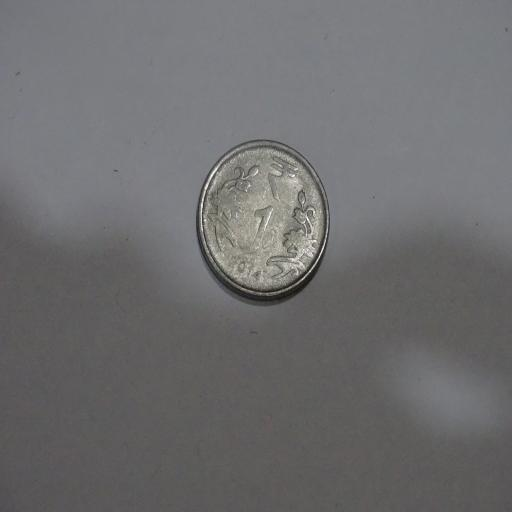rupee1: (193, 138, 330, 303)
